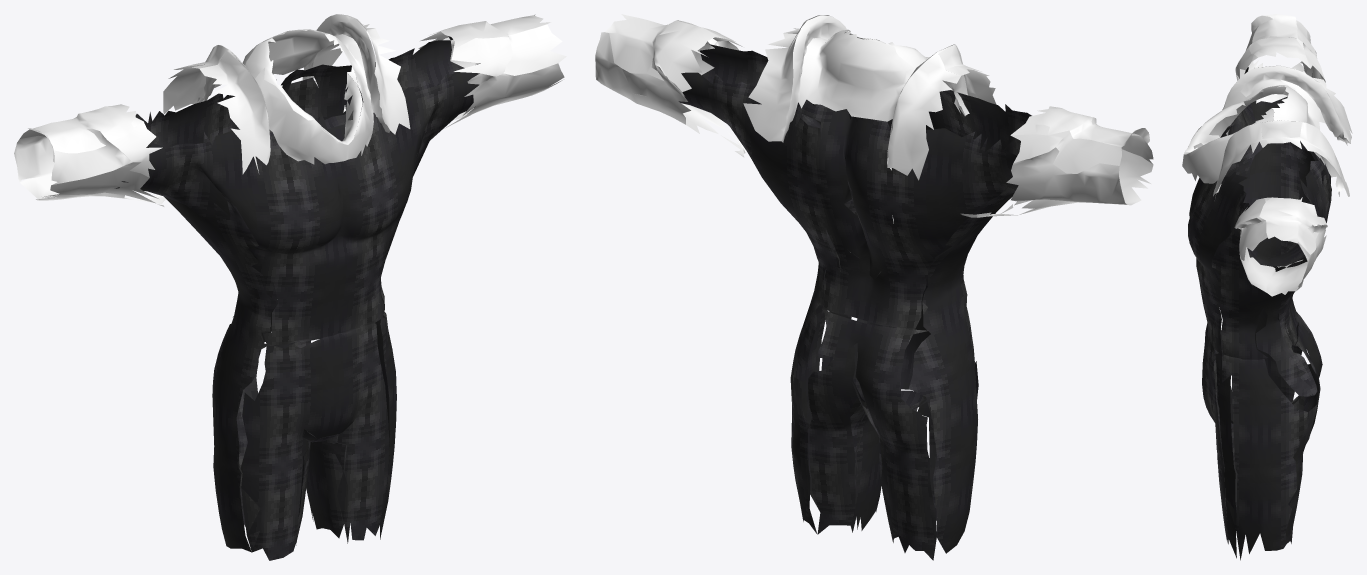
Rendered from warrior_m_hauberk.glb.
3 views of the same model, side by side, from view 1: azimuth 30°, elevation 25°; view 2: azimuth 150°, elevation 25°; view 3: azimuth 270°, elevation 25° (orthographic). The views are drawn at different scales.
Visible parts, largest first — view 1: item; view 2: item; view 3: item.
Boxes of the visible parts, bbox=[...] form: item: bbox=[14, 14, 566, 560]; item: bbox=[595, 14, 1153, 560]; item: bbox=[1182, 14, 1352, 560].
Size of the model in its own units: 0.6201 by 0.5751 by 0.2017.
2 materials, 1 textured.
